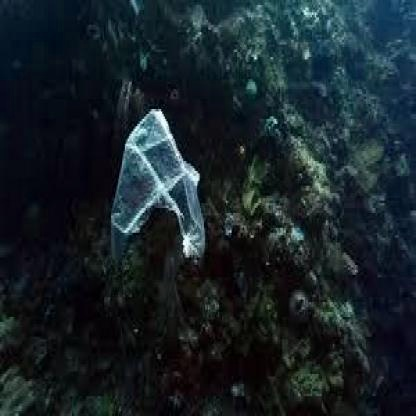pbag: (110, 106, 206, 270)
